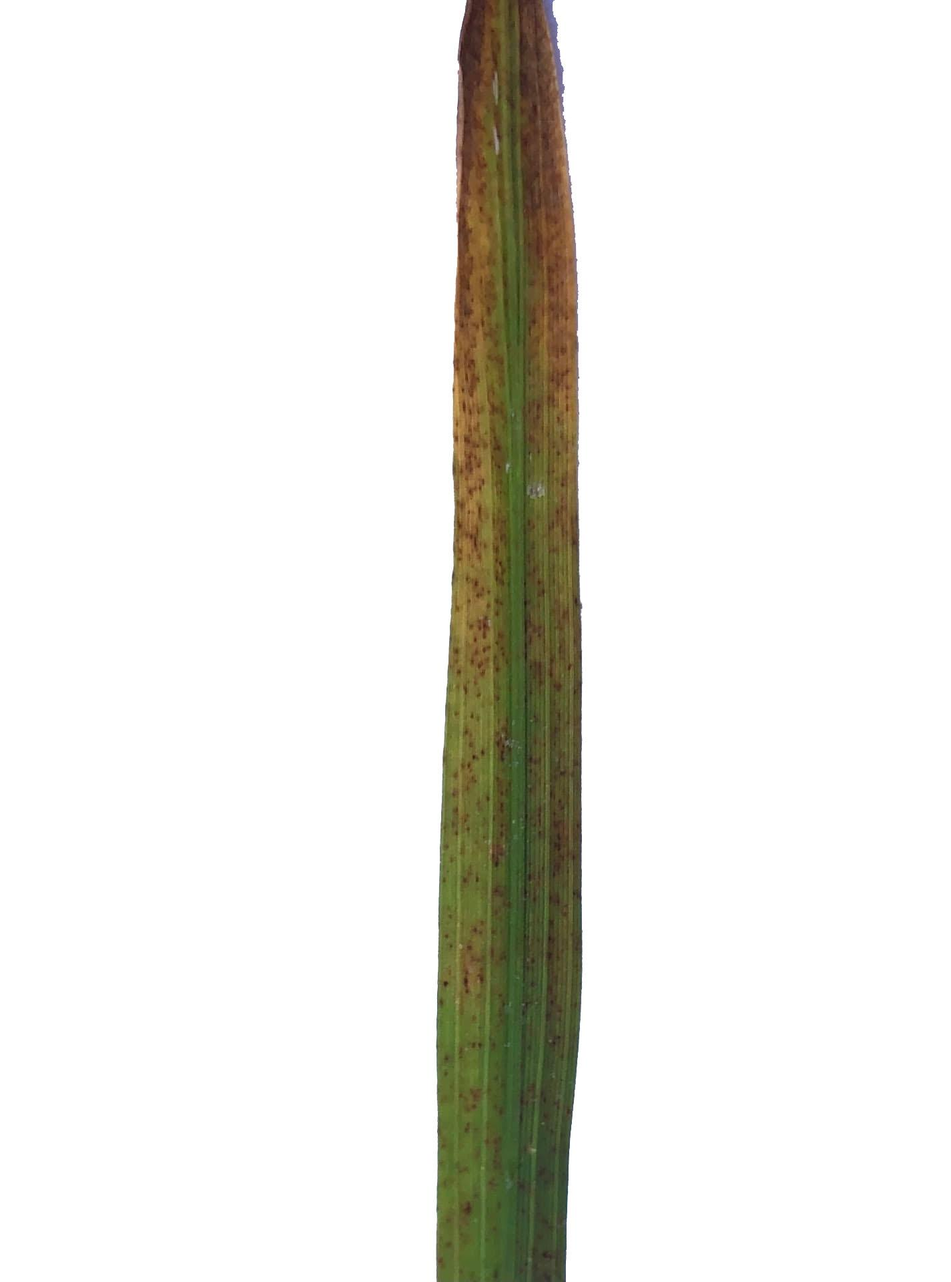Tungro: (433, 0, 585, 1282)
